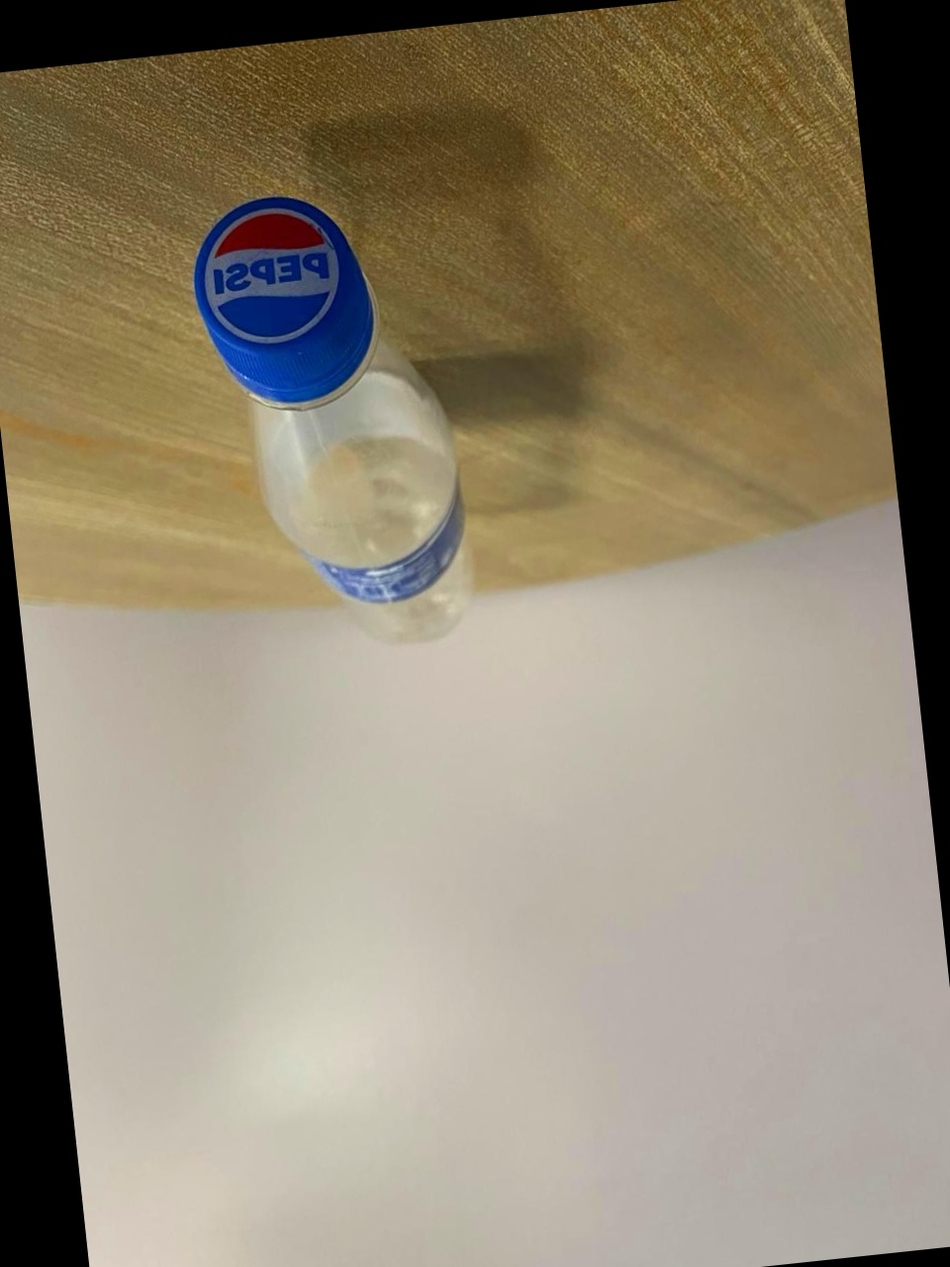Pepsi Bottle: (178, 151, 512, 680), (180, 167, 510, 680)
